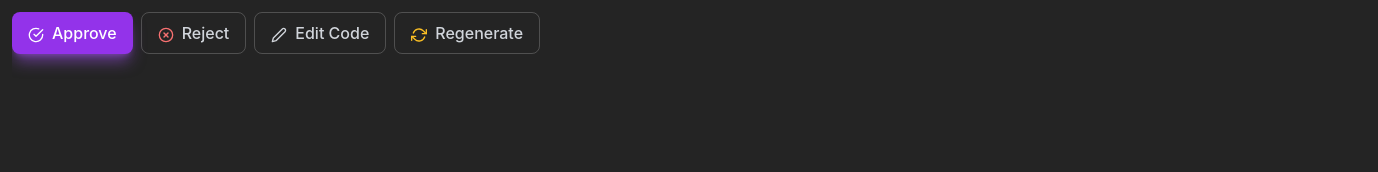
Test: ReviewActions › displays success message after successful approve
Click the button "Approve" at (72, 33), box [12,12,133,54]
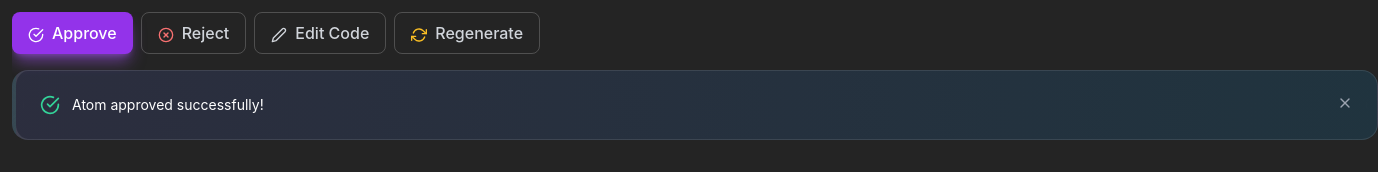
Expected: the text "Atom approved successfully!" is shown, [72,96,264,113]
